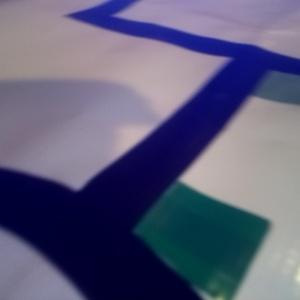bottom_right: (232, 58, 300, 104)
top_right: (91, 179, 270, 300)
